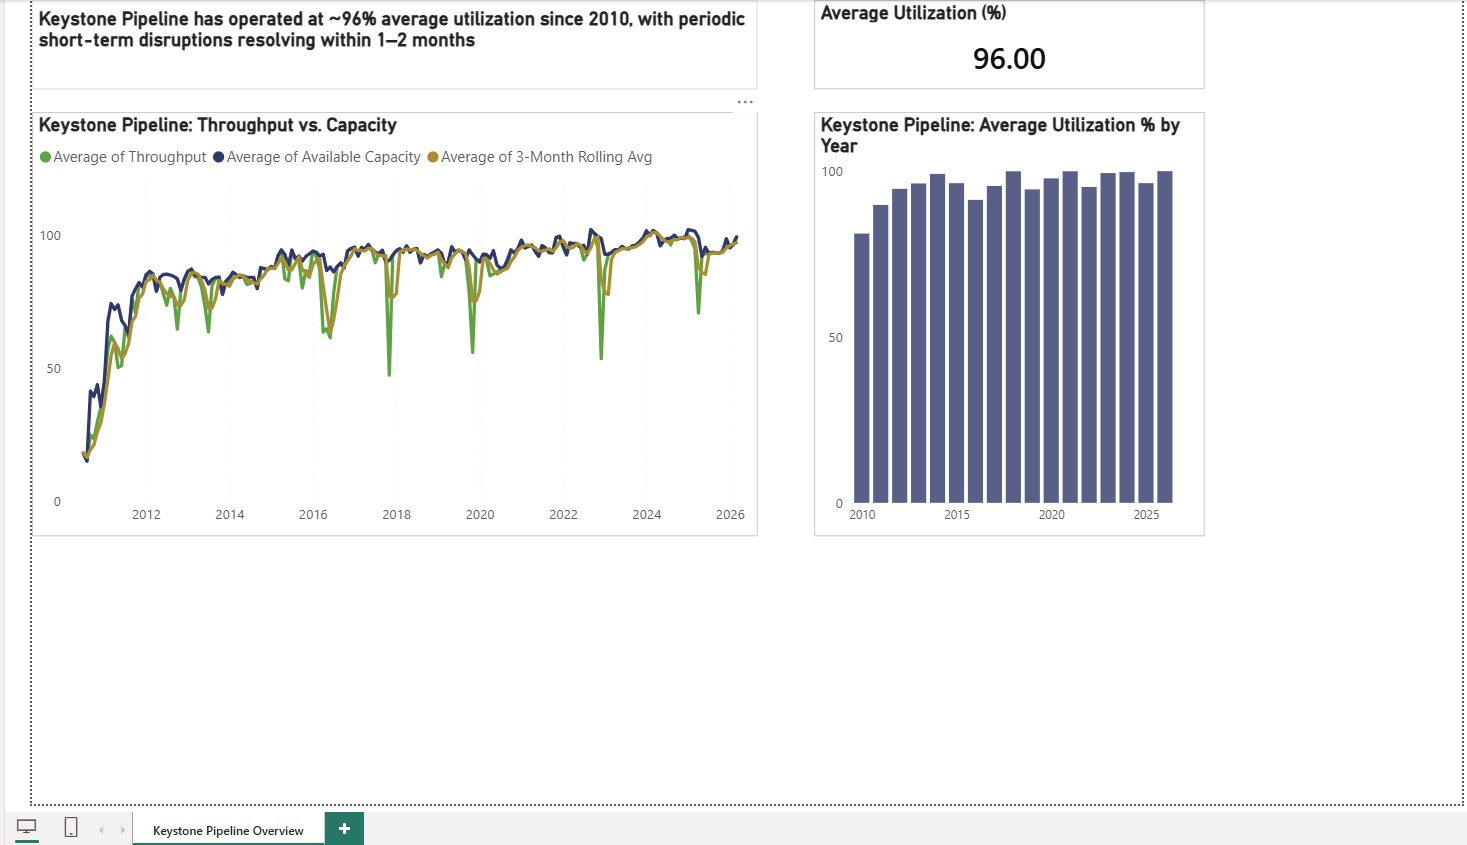

The dashboard page shown, as its layout file describes it:
{"tool":"powerbi","page":{"name":"Keystone Pipeline Overview","canvas":[1280,720],"ordinal":0},"visuals":[{"type":"lineChart","title":"Keystone Pipeline: Throughput vs. Capacity","fields":{"Category":["keystone_clean.date"],"Y":["Avg(keystone_clean.throughput)","Avg(keystone_clean.capacity)","Avg(keystone_clean.rolling_avg_3mo)"]},"box":[0,100,650,380],"z":0},{"type":"cardVisual","title":"Average Utilization (%)","fields":{"Data":["Avg(keystone_clean.utilization_pct)"]},"box":[700,0,350,80],"z":1},{"type":"clusteredColumnChart","title":"Keystone Pipeline: Average Utilization % by Year","fields":{"Category":["keystone_clean.Year"],"Y":["Avg(keystone_clean.utilization_pct)"]},"box":[700,100,350,380],"z":2},{"type":"textbox","box":[0,0,650,80],"z":3}]}

Visuals, with their boxes on the page's 1280x720 design canvas (x1, y1, x2, y2). These are canvas units, not pixel positions in the 1467x845 screenshot, which may show the page scaled, cropped or inside an application window:
"Keystone Pipeline: Throughput vs. Capacity" lineChart: 0/100/650/480
"Average Utilization (%)" cardVisual: 700/0/1050/80
"Keystone Pipeline: Average Utilization % by Year" clusteredColumnChart: 700/100/1050/480
textbox: 0/0/650/80
